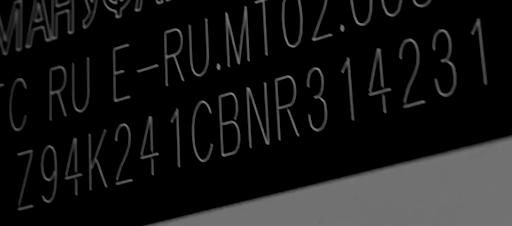letter: (428, 25, 462, 100), (395, 35, 429, 110), (270, 70, 302, 142), (364, 42, 394, 115), (214, 88, 244, 160), (244, 77, 272, 149), (188, 94, 216, 164), (302, 63, 330, 133), (110, 119, 138, 186), (466, 14, 490, 91), (85, 124, 111, 191), (12, 145, 38, 212), (136, 111, 162, 177), (62, 133, 86, 198), (38, 141, 60, 206), (165, 102, 185, 173), (338, 53, 358, 123)
